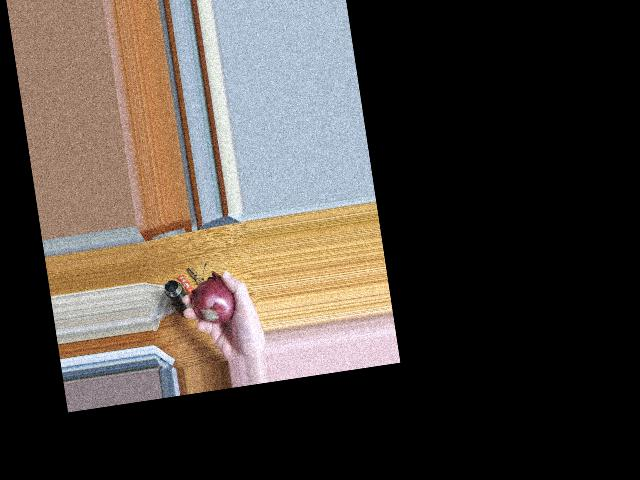onion: (190, 277, 236, 324)
